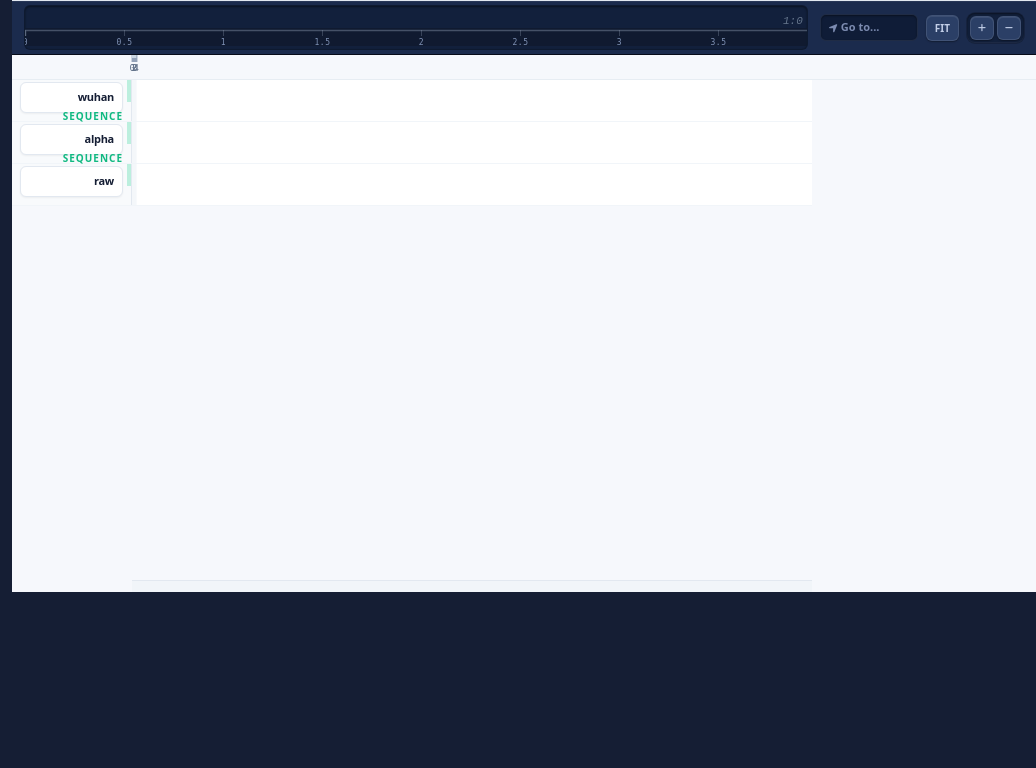
Test: offers Use as Reference on an aligned record and reports that record
Right-click the element showing "Sequence alpha": point(412, 143) [12,122,812,164]
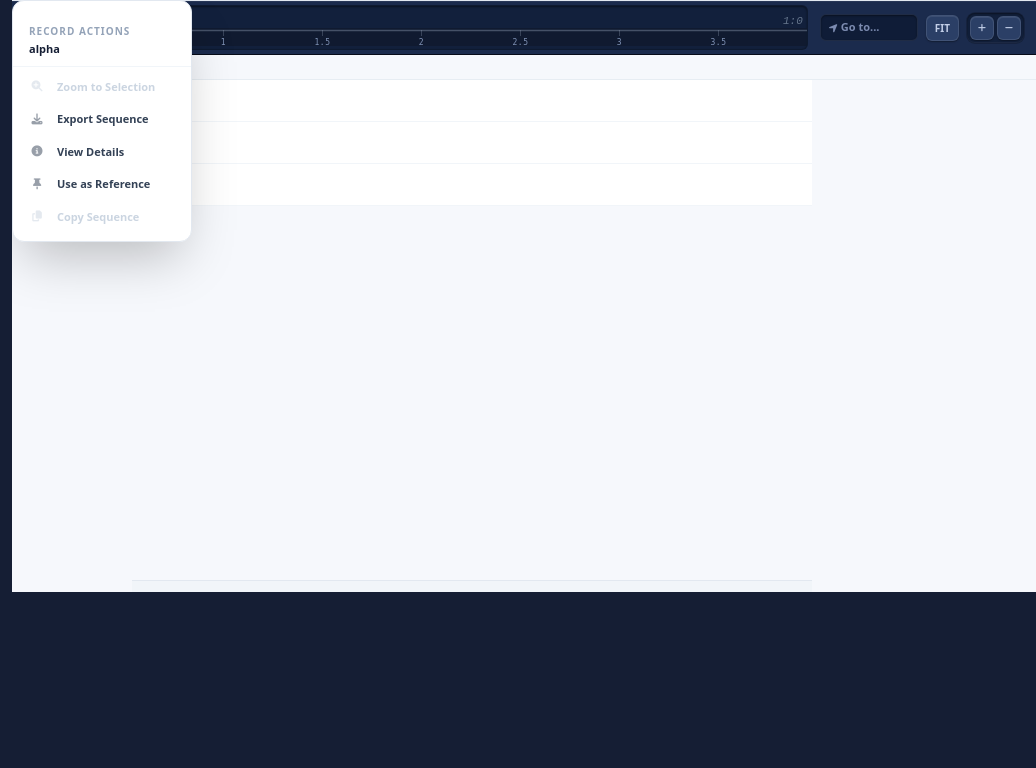
Click the button "Use as Reference": point(102, 184) [13,168,191,200]
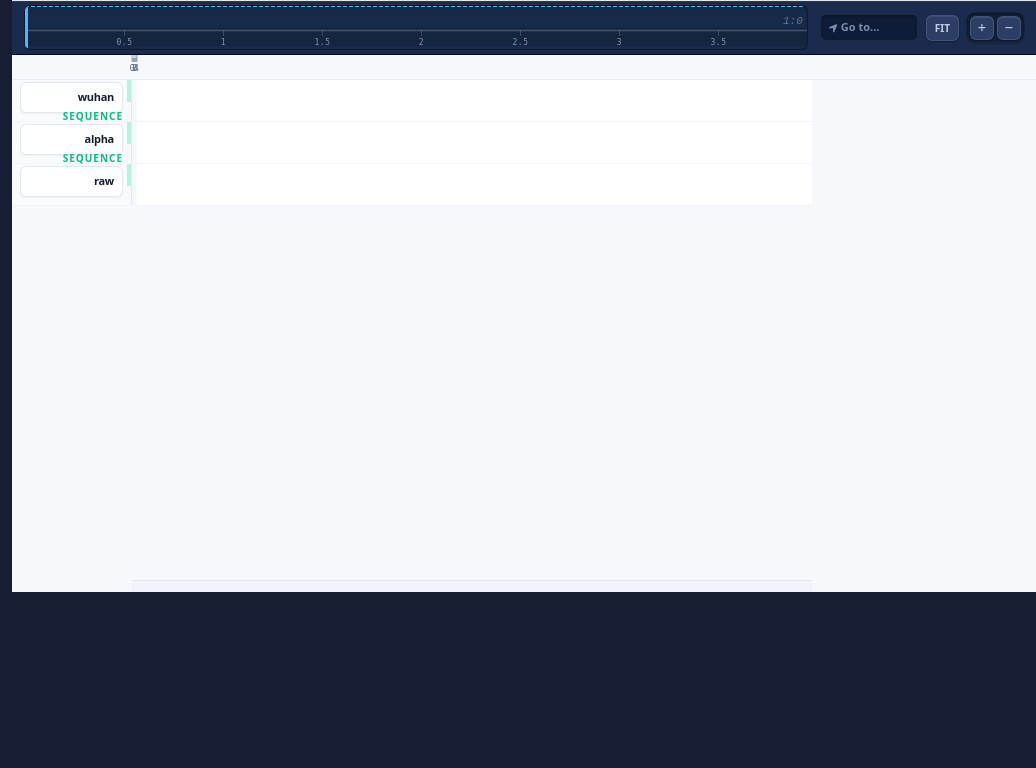
Now the button "Use as Reference" is gone
